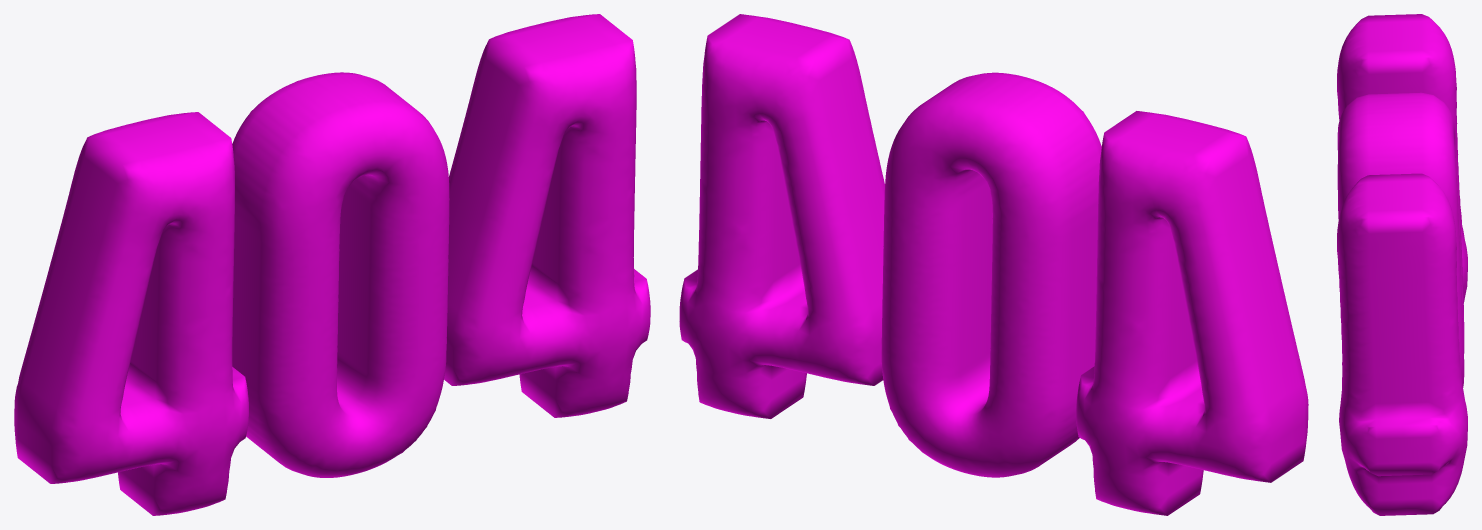
The picture shows the model from 3 angles, left to right: view 1: azimuth 30°, elevation 25°; view 2: azimuth 150°, elevation 25°; view 3: azimuth 270°, elevation 25°; orthographic projection. The views are drawn at different scales.
Visible parts, largest first — view 1: 404; view 2: 404; view 3: 404.
Boxes of the visible parts, left/top/right/bottom form: 404: left=14, top=14, right=650, bottom=515; 404: left=679, top=14, right=1308, bottom=515; 404: left=1337, top=14, right=1467, bottom=515.
Size of the model in its own units: 25 by 15.01 by 5.85.
